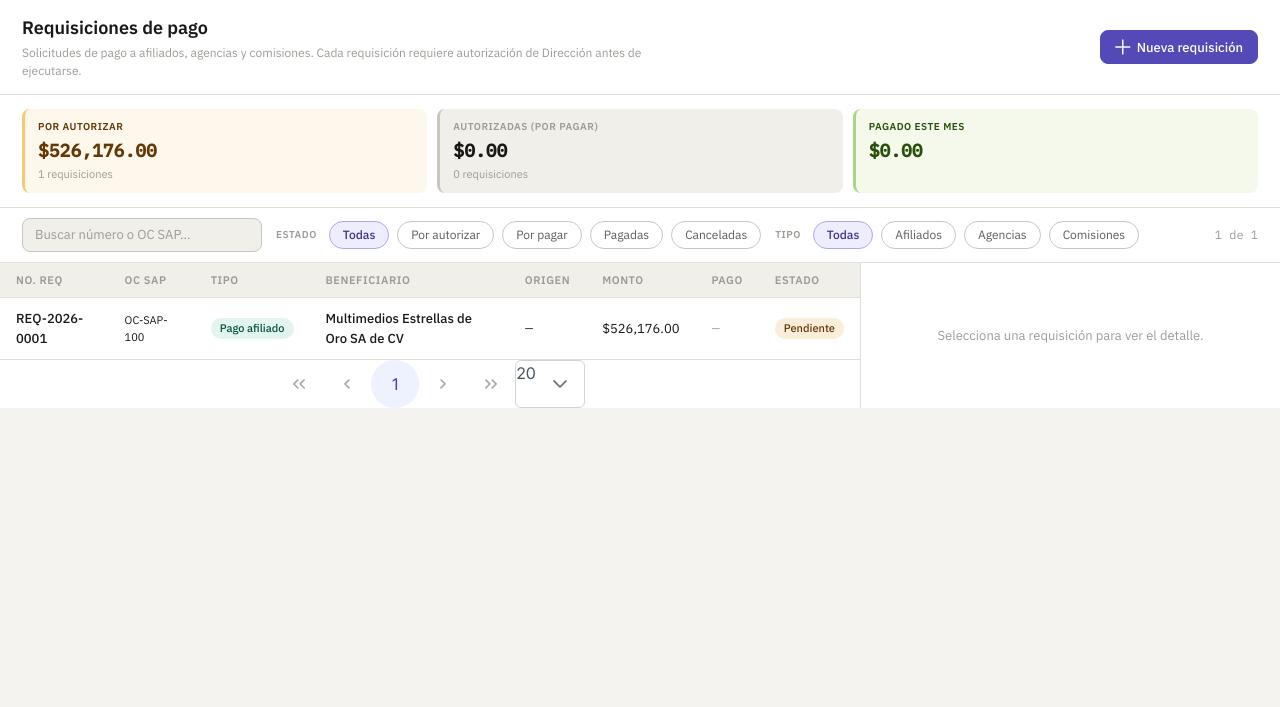
Test: RequisicionesPage › petición del usuario, con captura: despliega la orden de servicio relacionada como badge junto al tipo
The image size is (1280, 707).
Click the text "REQ-2026-0001" at x=54, y=328, box [0,298,109,360]
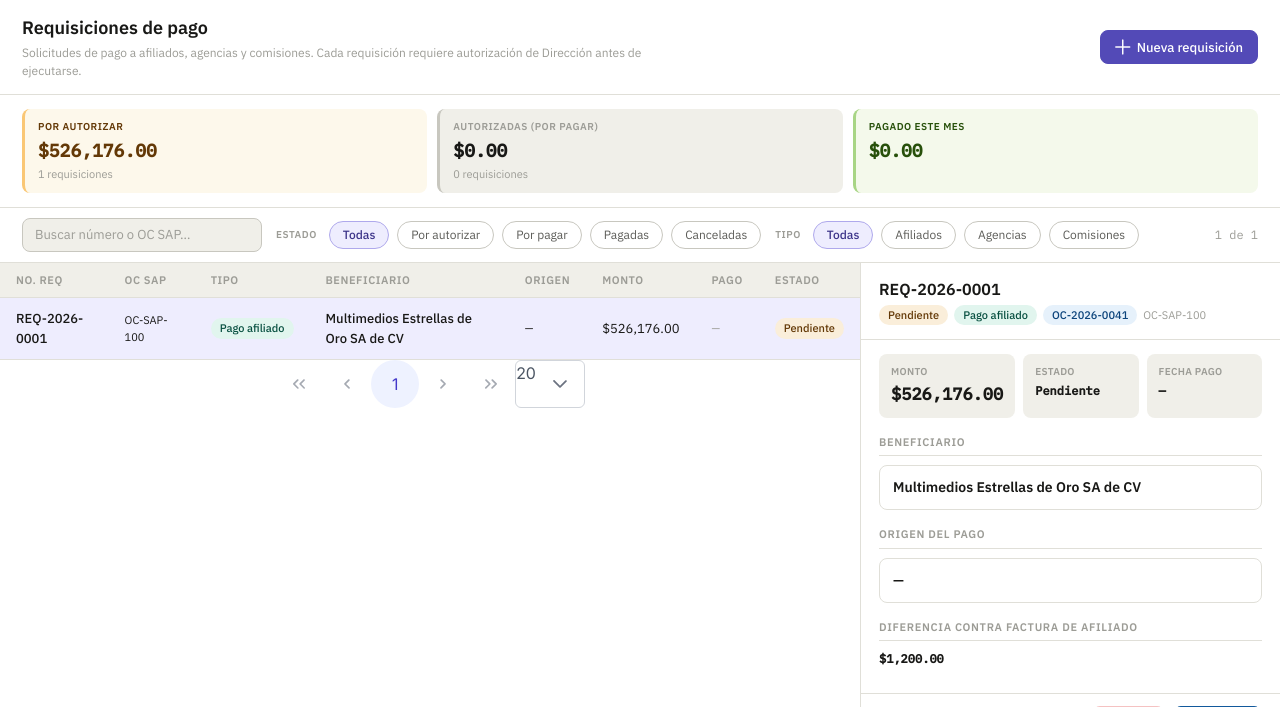
Expected: the text "OC-2026-0041" is shown, [1043,304,1137,325]
